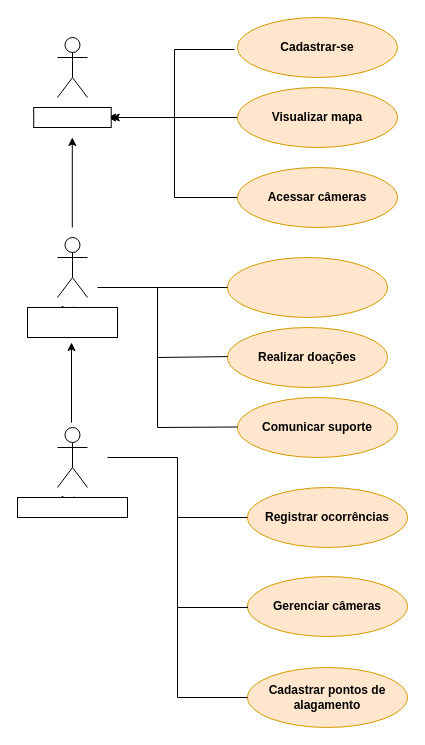
Some shapes in this 425 by 745 pixel diagram are drawn without their labels. Here are the shapes that lost their labels. From the top down, the box of each, then its label:
(33, 106, 111, 128): VISITANTE
(226, 256, 388, 318): Gerenciar perfil
(26, 306, 118, 338): USUÁRIO AUTENTICADO
(16, 496, 128, 518): ADMINISTRADOR
